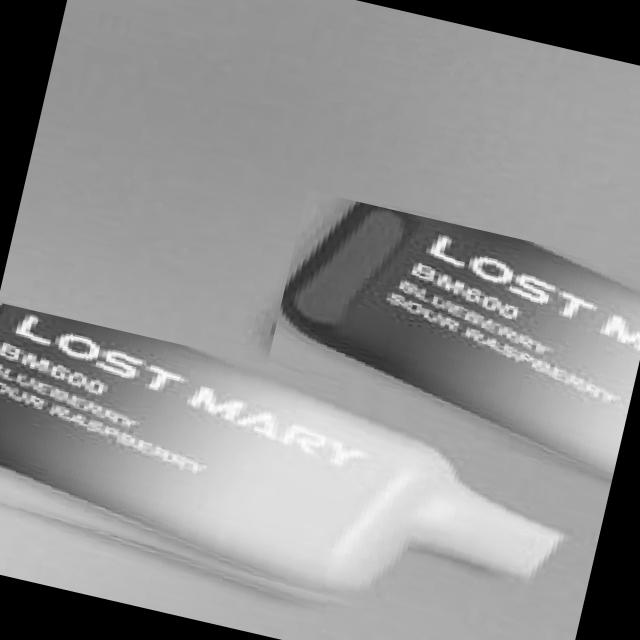Hazard: (0, 302, 593, 640), (258, 189, 640, 479)
